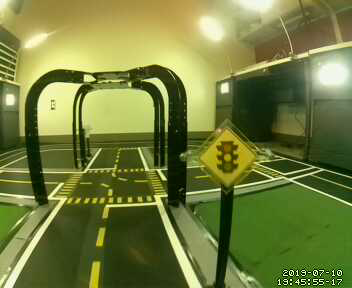Traffic light sign: (199, 128, 256, 190)
